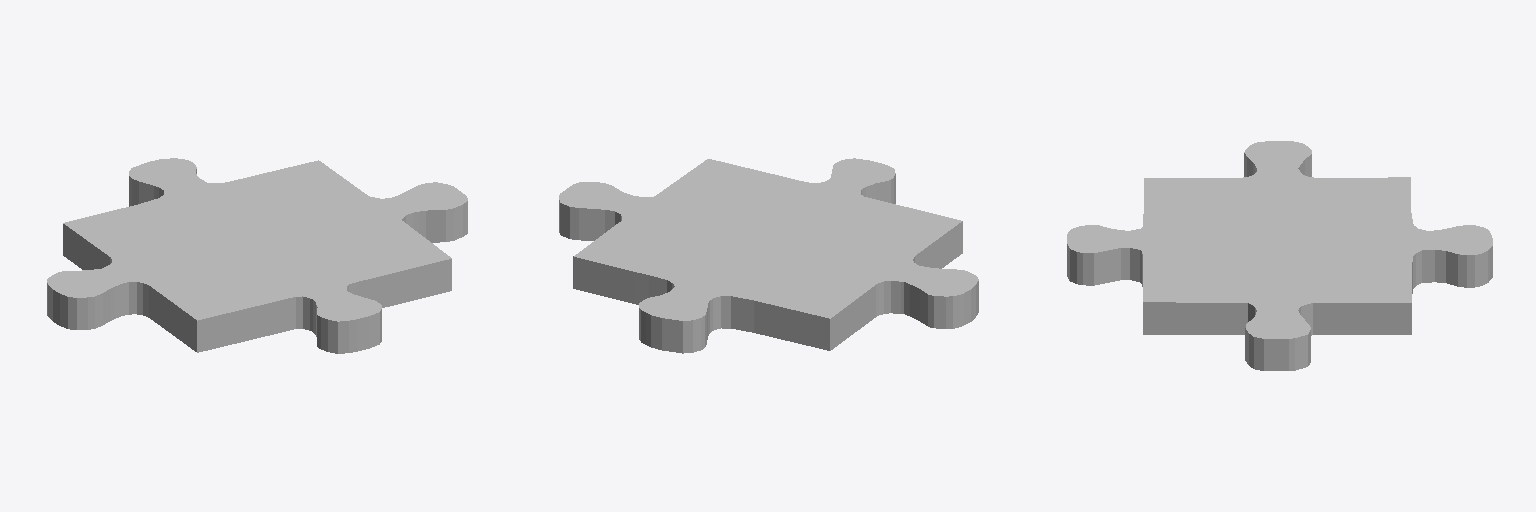
Rendered from puzzle-vuoto.obj.
3 views of the same model, side by side, from view 1: azimuth 30°, elevation 25°; view 2: azimuth 150°, elevation 25°; view 3: azimuth 270°, elevation 25° (orthographic).
Size of the model in its own units: 39.33 by 3 by 35.77.